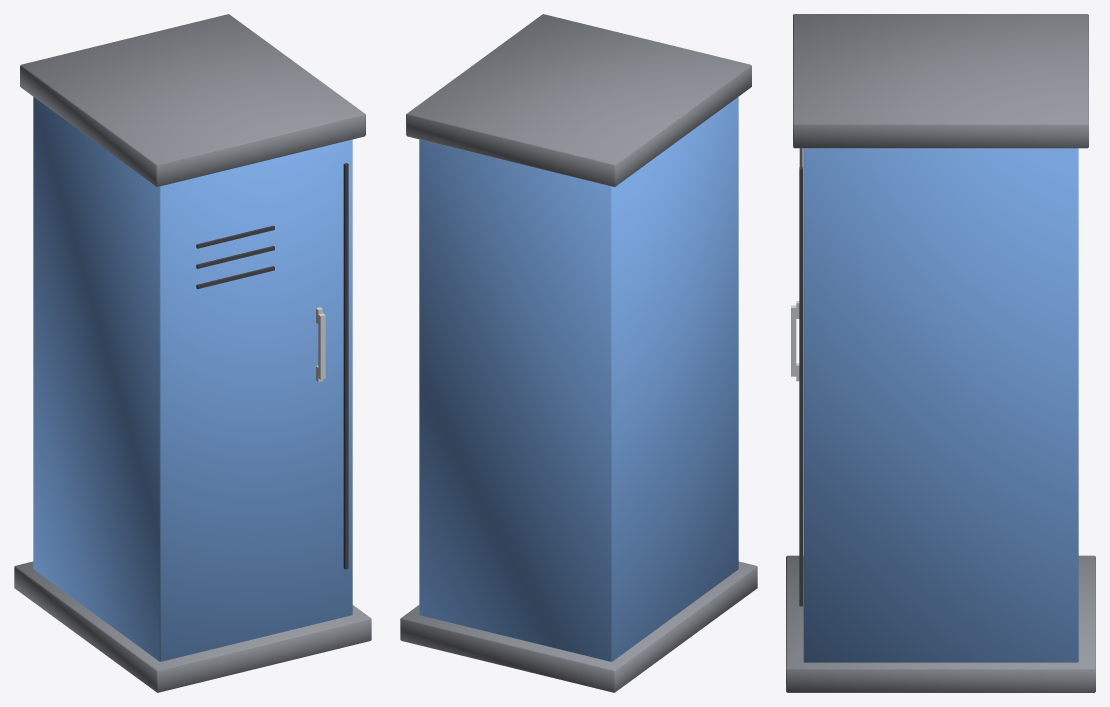
File: BikeLocker_Single.fbx
The picture shows the model from 3 angles, left to right: view 1: azimuth 30°, elevation 25°; view 2: azimuth 150°, elevation 25°; view 3: azimuth 270°, elevation 25°; orthographic projection. The views are drawn at different scales.
Visible parts, largest first — view 1: LOD0; view 2: LOD0; view 3: LOD0.
Part boxes in pixels (x1,y1,x2,y2): LOD0: (14,14,371,692); LOD0: (400,14,757,692); LOD0: (786,14,1095,692).
Size of what is drawn, in the model's own units: 78 by 182 by 90.
